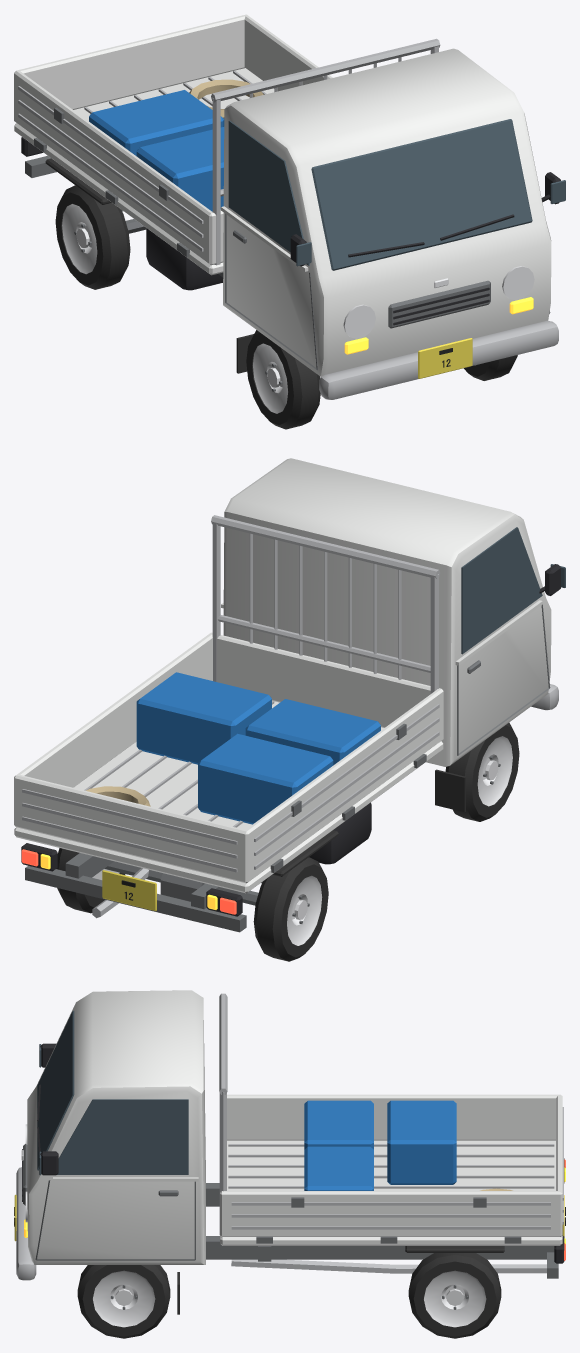
File: keitora.glb
3 views of the same model, one above another, from view 1: azimuth 30°, elevation 25°; view 2: azimuth 150°, elevation 25°; view 3: azimuth 270°, elevation 25° (orthographic). The views are drawn at different scales.
Visible parts, largest first — view 1: keitora_body; view 2: keitora_body; view 3: keitora_body.
Boxes of the visible parts, x1=… form: keitora_body: x1=14, y1=14, x2=565, y2=429; keitora_body: x1=14, y1=458, x2=565, y2=961; keitora_body: x1=14, y1=990, x2=565, y2=1338.
Size of what is drawn, in the model's own units: 1.63 by 1.71 by 3.34.
